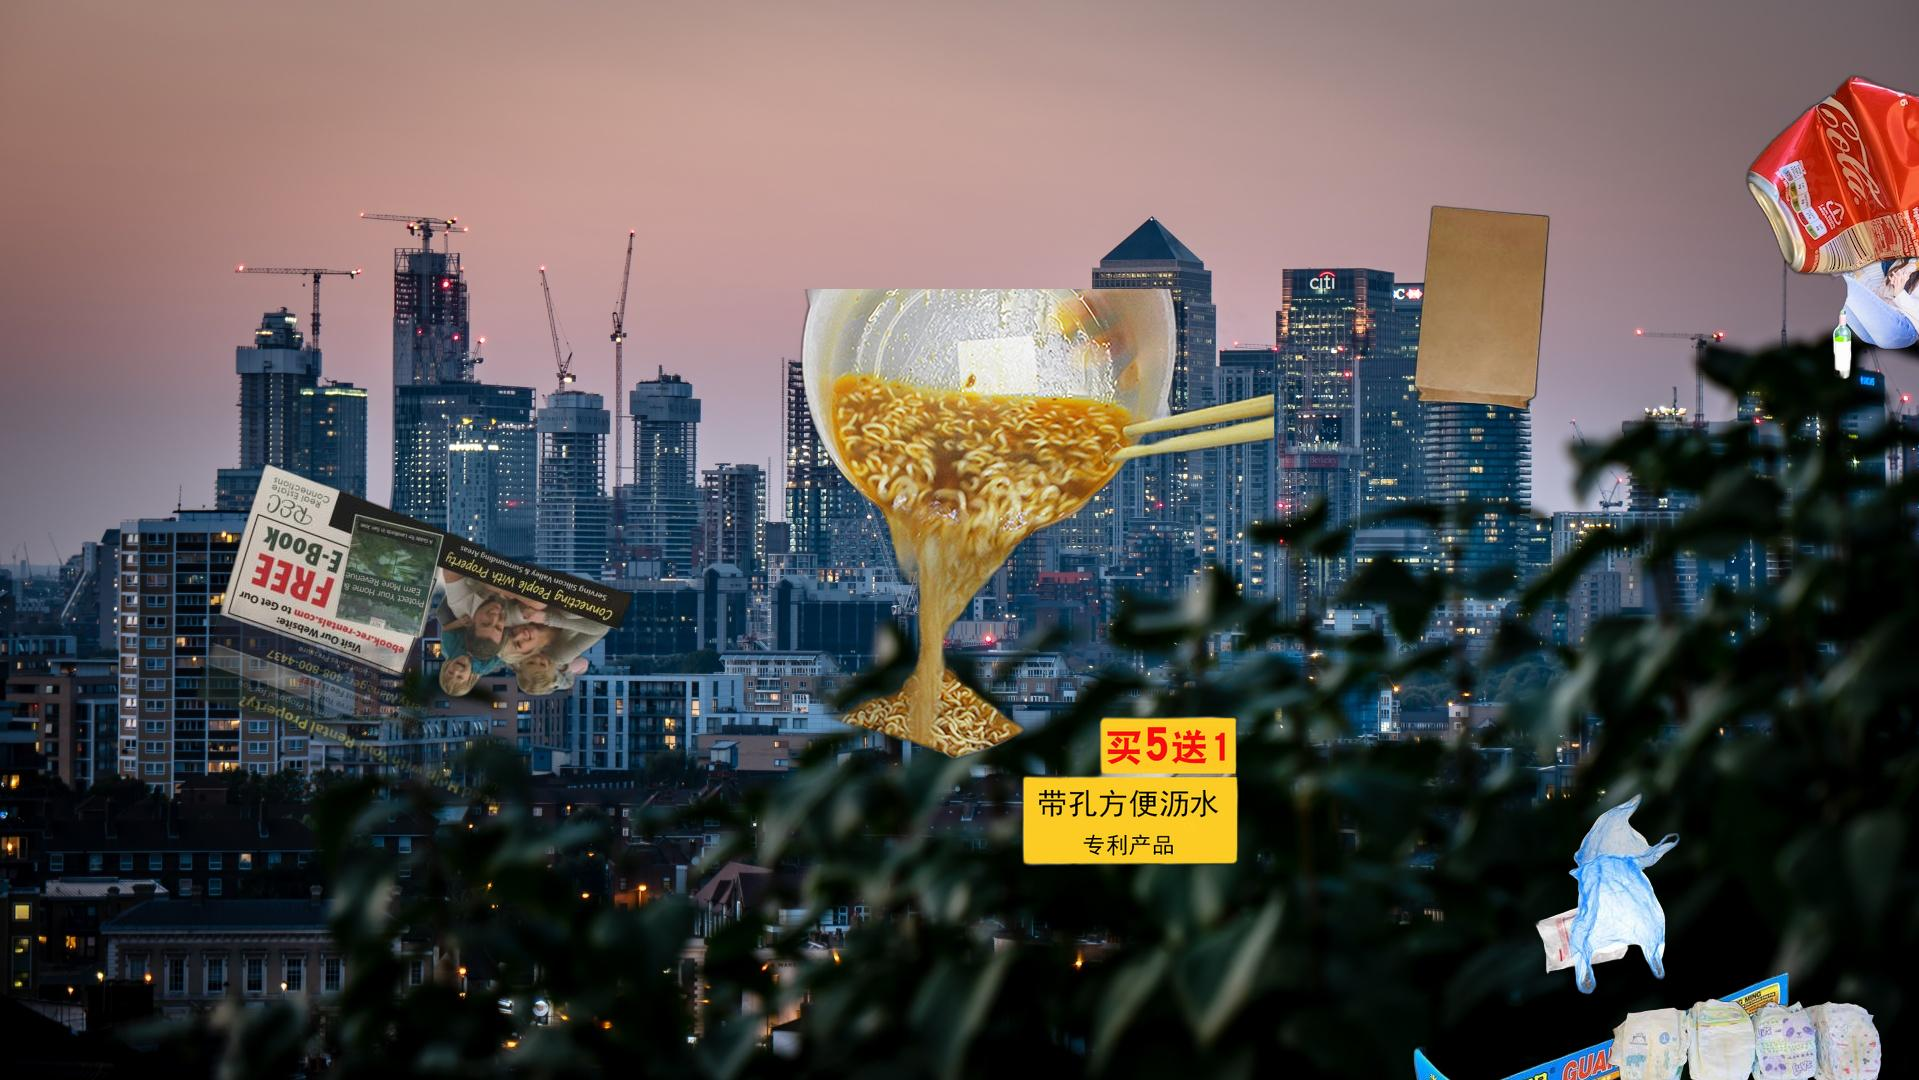battery: (1410, 939, 1808, 1080)
biological: (796, 289, 1275, 872)
metal-cans: (1671, 71, 1919, 626)
paper: (191, 462, 637, 811)
paper-bag: (1413, 203, 1553, 413)
plastic-bag: (1528, 789, 1785, 1015)
trash: (1604, 996, 1883, 1080)
trashbox-cardboard: (1823, 183, 1919, 380)
